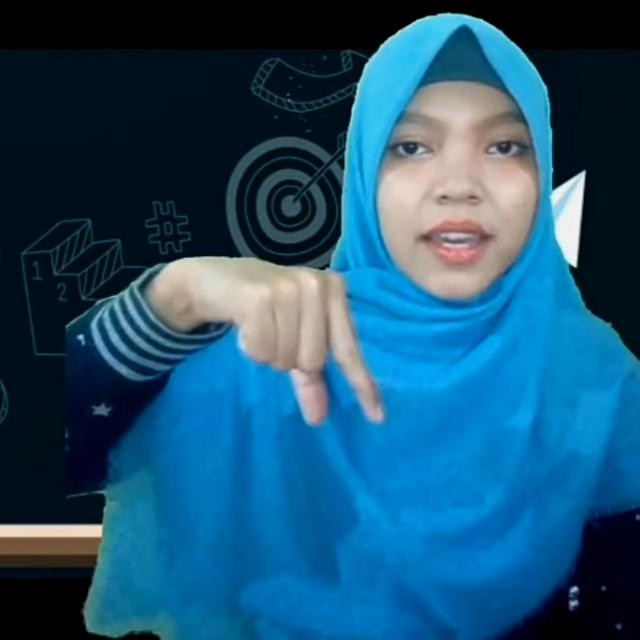Q: (172, 242, 390, 436)
